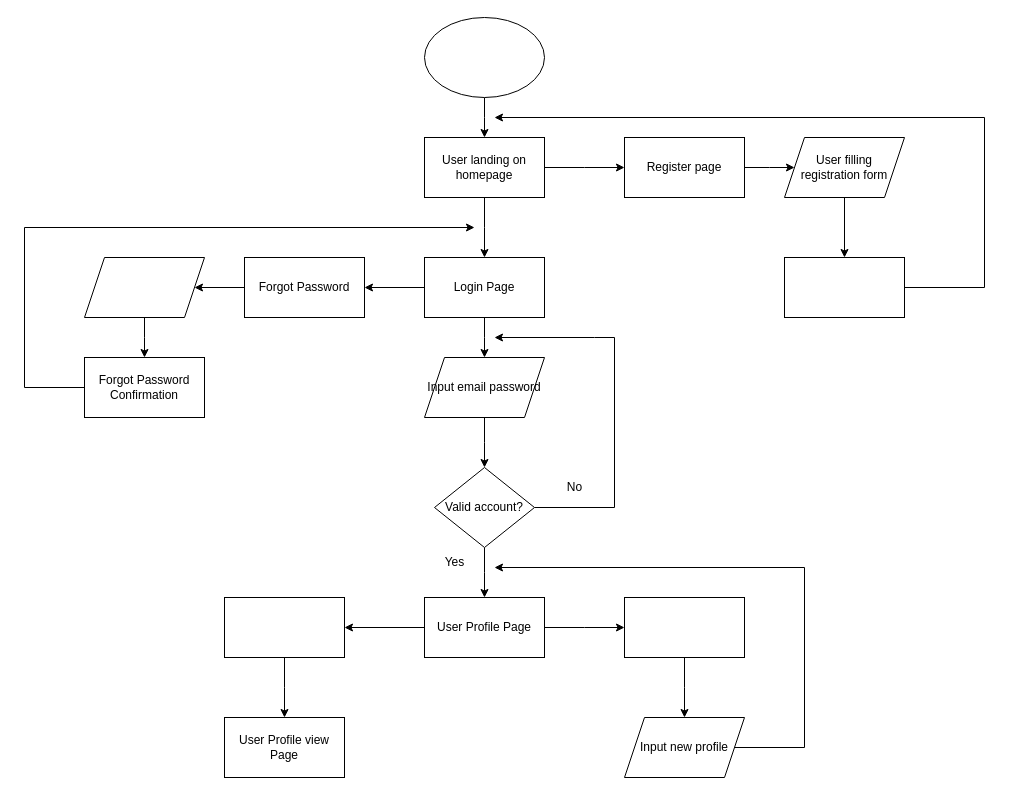
This 1010x795 diagram has some shape labels left out. Each missing label, with the box of its shape:
Edit Profile Page: (624, 596, 744, 658)
Input email: (84, 256, 204, 318)
Registration Thankyou page: (784, 256, 904, 318)
Search UsersPage: (224, 596, 344, 658)
Start: (424, 16, 544, 98)
